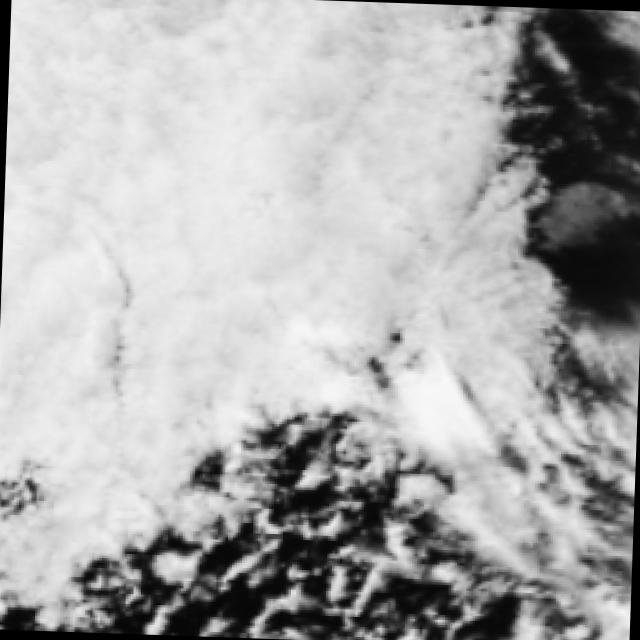CB: (0, 188, 210, 385), (5, 0, 216, 195), (208, 0, 401, 196), (284, 33, 488, 208), (185, 189, 388, 349), (342, 215, 512, 402), (0, 329, 209, 456)
